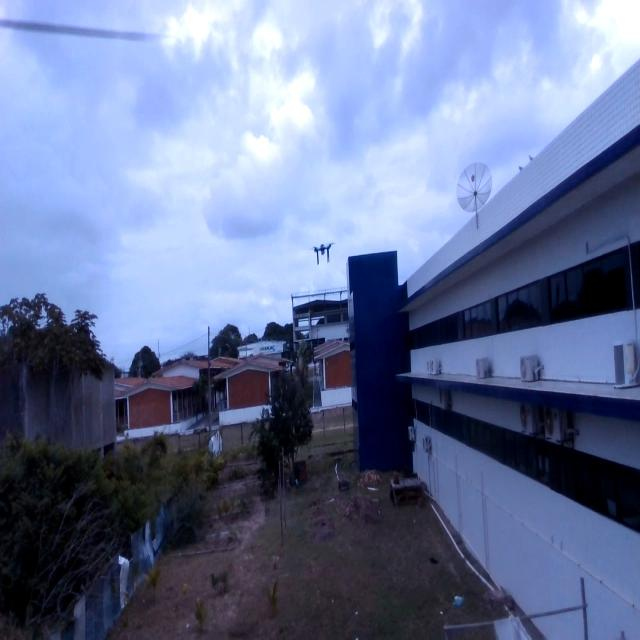-uav-: (308, 236, 337, 274)
